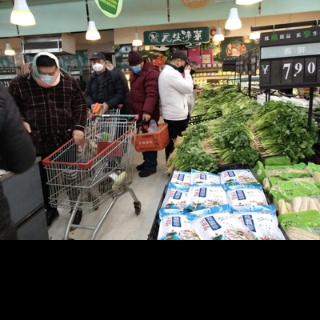with_mask: (36, 68, 57, 87), (92, 59, 104, 73), (128, 63, 141, 74), (177, 62, 186, 73), (190, 66, 197, 76)
